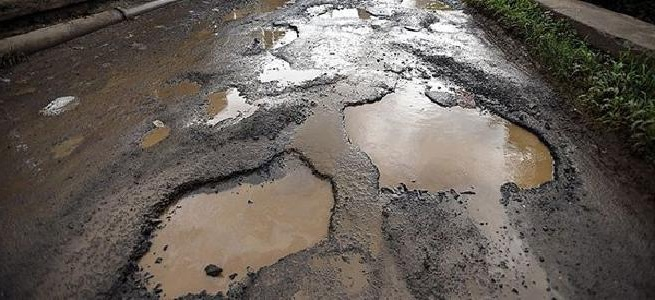pothole: (101, 146, 339, 300), (338, 80, 559, 198), (191, 82, 252, 127), (152, 71, 207, 103), (253, 19, 300, 54), (131, 119, 172, 151), (316, 5, 379, 21), (425, 15, 460, 35)
